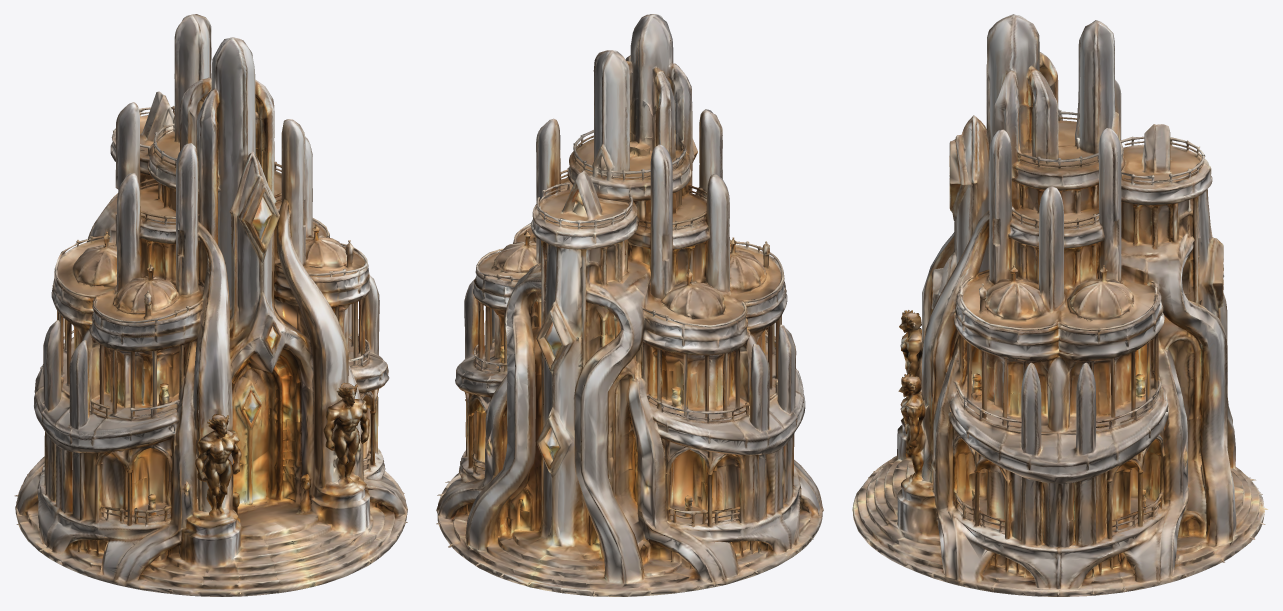
The model's file is TEMPLE_M5C_L1.glb.
3 views of the same model, side by side, from view 1: azimuth 30°, elevation 25°; view 2: azimuth 150°, elevation 25°; view 3: azimuth 270°, elevation 25° (orthographic). The views are drawn at different scales.
Visible parts, largest first — view 1: TEMPLE_M5C_L1; view 2: TEMPLE_M5C_L1; view 3: TEMPLE_M5C_L1.
Boxes of the visible parts, x1,y1,x2,y2 form: TEMPLE_M5C_L1: (14, 14, 407, 596); TEMPLE_M5C_L1: (436, 14, 823, 596); TEMPLE_M5C_L1: (852, 14, 1267, 596).
Size of the model in its own units: 0.7209 by 0.9782 by 0.7408.
Materials: 1 (1 with a texture image).
